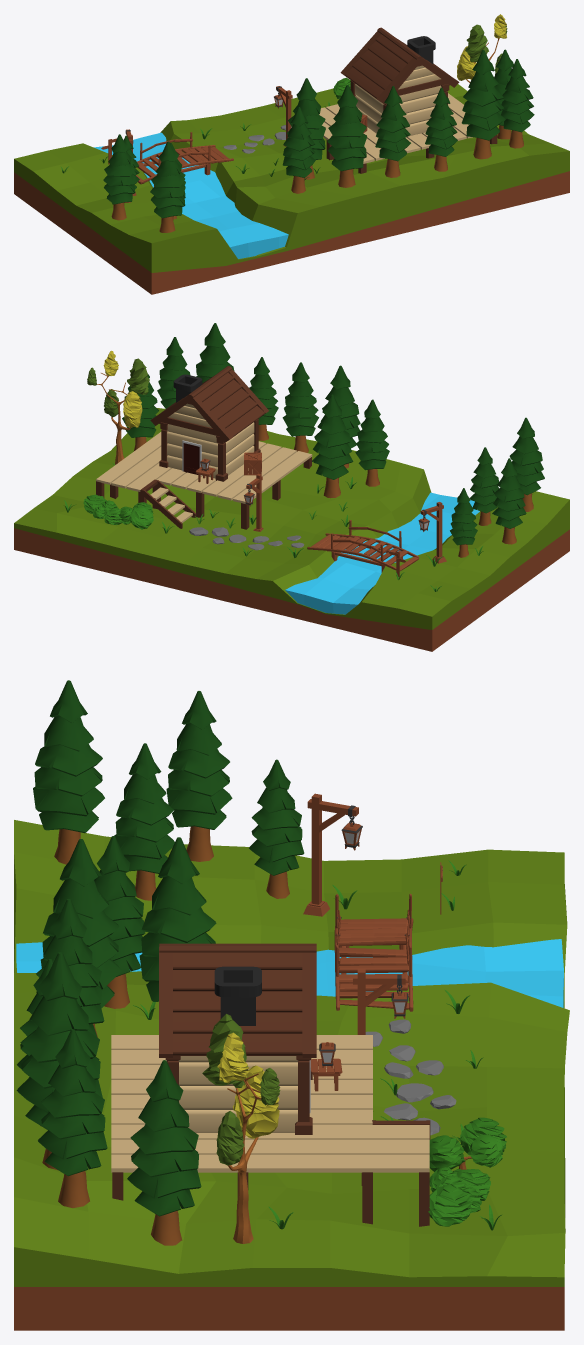
File: Low poly House.obj
3 views of the same model, one above another, from view 1: azimuth 30°, elevation 25°; view 2: azimuth 150°, elevation 25°; view 3: azimuth 270°, elevation 25° (orthographic). The views are drawn at different scales.
Visible parts, largest first — view 1: Ground_Cube.002, Roof_Cube.001, River_Plane, Tree.007_Cylinder.006, Tree.001_Cylinder.002, Tree.009_Cylinder.009, Floor_&_stairs_Cube.015, Tree.004_Cylinder.004, Tree.008_Cylinder.007, Tree.003_Cylinder.003, Tree.011_Cylinder.011, Bridge_Cube.022 (+6 smaller); view 2: Ground_Cube.002, Roof_Cube.001, Floor_&_stairs_Cube.015, River_Plane, Tree_Cylinder.001, Tree.002_Cube.009, Bridge_Cube.022, Tree.004_Cylinder.004, Tree.003_Cylinder.003, Tree.009_Cylinder.009, Tree.011_Cylinder.011, Tree.010_Cylinder.010 (+12 smaller); view 3: Ground_Cube.002, Roof_Cube.001, Floor_&_stairs_Cube.015, River_Plane, Tree.005_Cylinder.013, Tree.009_Cylinder.009, Tree.002_Cube.009, Tree.008_Cylinder.007, Tree.011_Cylinder.011, Tree.007_Cylinder.006, Bridge_Cube.022, Tree_Cylinder.001 (+11 smaller).
Part boxes in pixels (left/top/right/bottom): Ground_Cube.002: left=14, top=84, right=569, bottom=294; Roof_Cube.001: left=340, top=27, right=459, bottom=136; River_Plane: left=94, top=132, right=288, bottom=258; Tree.007_Cylinder.006: left=461, top=50, right=504, bottom=159; Tree.001_Cylinder.002: left=327, top=85, right=366, bottom=187; Tree.009_Cylinder.009: left=150, top=141, right=185, bottom=232; Floor_&_stairs_Cube.015: left=319, top=93, right=497, bottom=173; Tree.004_Cylinder.004: left=375, top=86, right=410, bottom=177; Tree.008_Cylinder.007: left=501, top=59, right=534, bottom=148; Tree.003_Cylinder.003: left=282, top=107, right=315, bottom=193; Tree.011_Cylinder.011: left=103, top=134, right=135, bottom=220; Bridge_Cube.022: left=136, top=132, right=233, bottom=186; Ground_Cube.002: left=14, top=408, right=569, bottom=651; Roof_Cube.001: left=150, top=366, right=268, bottom=481; Floor_&_stairs_Cube.015: left=96, top=432, right=312, bottom=529; River_Plane: left=285, top=492, right=479, bottom=614; Tree_Cylinder.001: left=312, top=395, right=353, bottom=498; Tree.002_Cube.009: left=87, top=350, right=149, bottom=464; Bridge_Cube.022: left=307, top=520, right=419, bottom=572; Tree.004_Cylinder.004: left=282, top=362, right=318, bottom=452; Tree.003_Cylinder.003: left=355, top=399, right=389, bottom=486; Tree.009_Cylinder.009: left=509, top=417, right=544, bottom=511; Tree.011_Cylinder.011: left=492, top=458, right=526, bottom=544; Tree.010_Cylinder.010: left=469, top=447, right=498, bottom=525; Ground_Cube.002: left=14, top=820, right=569, bottom=1330; Roof_Cube.001: left=159, top=943, right=316, bottom=1134; Floor_&_stairs_Cube.015: left=111, top=1035, right=430, bottom=1226; River_Plane: left=16, top=939, right=563, bottom=1007; Tree.005_Cylinder.013: left=127, top=1060, right=201, bottom=1245; Tree.009_Cylinder.009: left=33, top=680, right=104, bottom=864; Tree.002_Cube.009: left=202, top=1014, right=280, bottom=1243; Tree.008_Cylinder.007: left=38, top=1029, right=107, bottom=1207; Tree.011_Cylinder.011: left=166, top=691, right=232, bottom=861; Tree.007_Cylinder.006: left=16, top=952, right=102, bottom=1170; Bridge_Cube.022: left=334, top=893, right=413, bottom=1011; Tree_Cylinder.001: left=139, top=837, right=216, bottom=1001.
Size of the model in its own units: 36.86 by 12.81 by 21.2.
